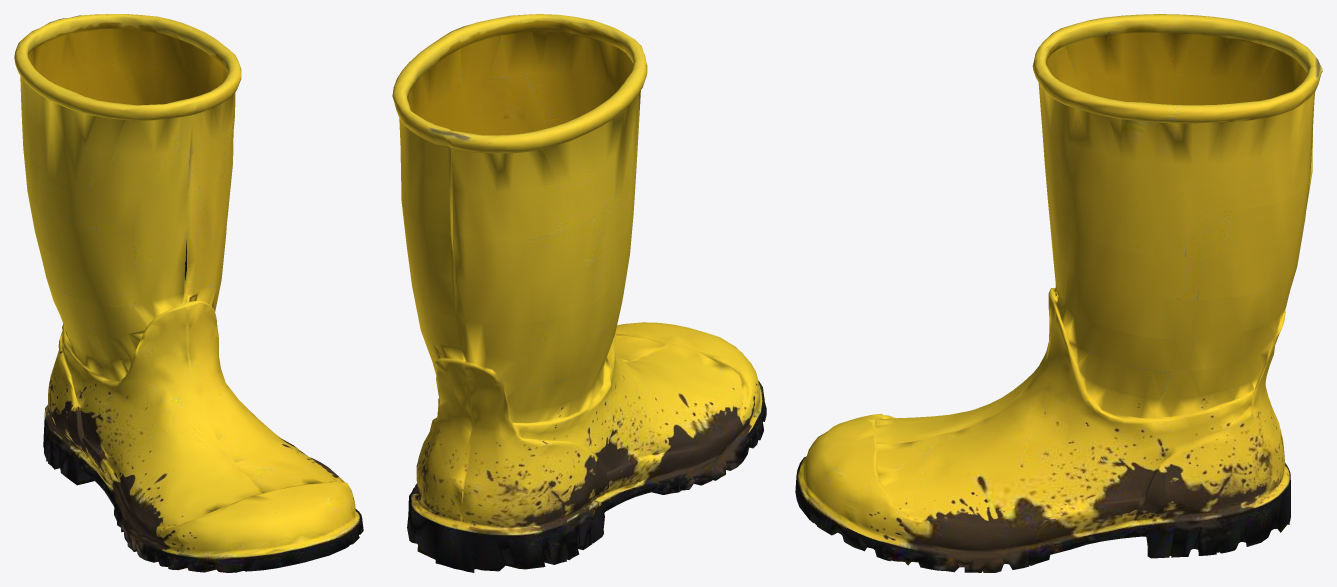
Rendered from wellies-right.glb.
The picture shows the model from 3 angles, left to right: view 1: azimuth 30°, elevation 25°; view 2: azimuth 150°, elevation 25°; view 3: azimuth 270°, elevation 25°; orthographic projection. The views are drawn at different scales.
Parts seen in each view (by area): view 1: wellies; view 2: wellies; view 3: wellies.
Part boxes in pixels (box(x1,y1,x2,y2)): wellies: box(14, 14, 363, 572); wellies: box(392, 14, 766, 572); wellies: box(795, 14, 1322, 572).
Bounding box in the file's own units: 0.22 × 0.4201 × 0.44.
Materials: 1 (1 with a texture image).
